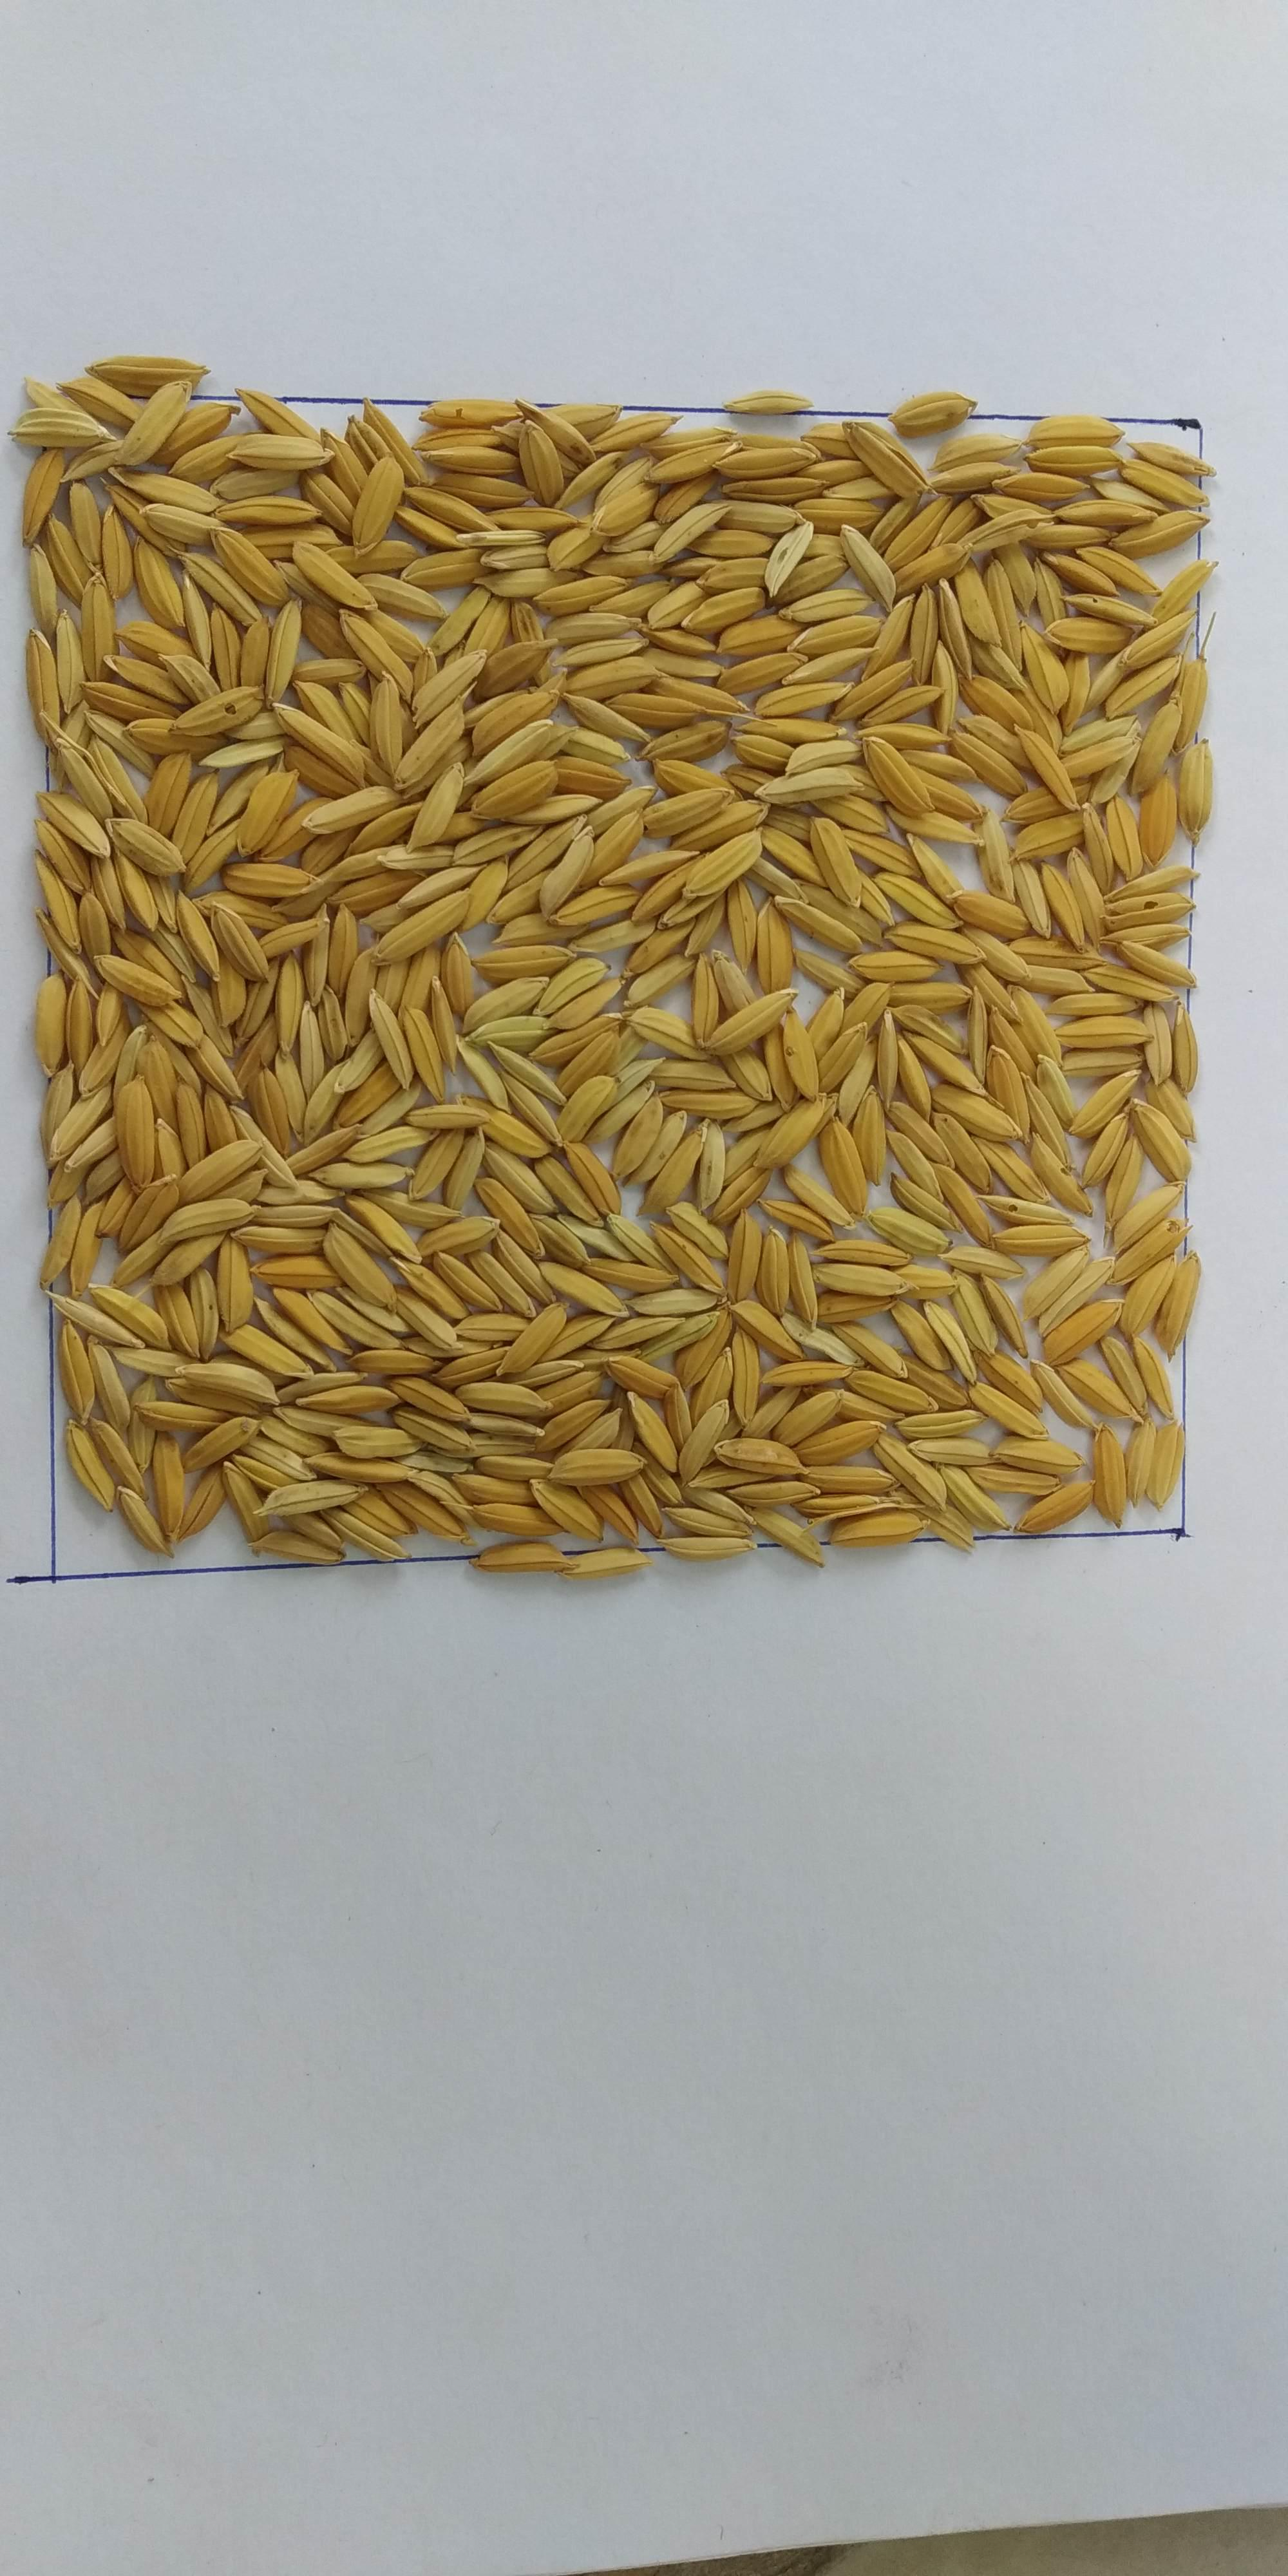pure: (39, 370, 1226, 1605)
